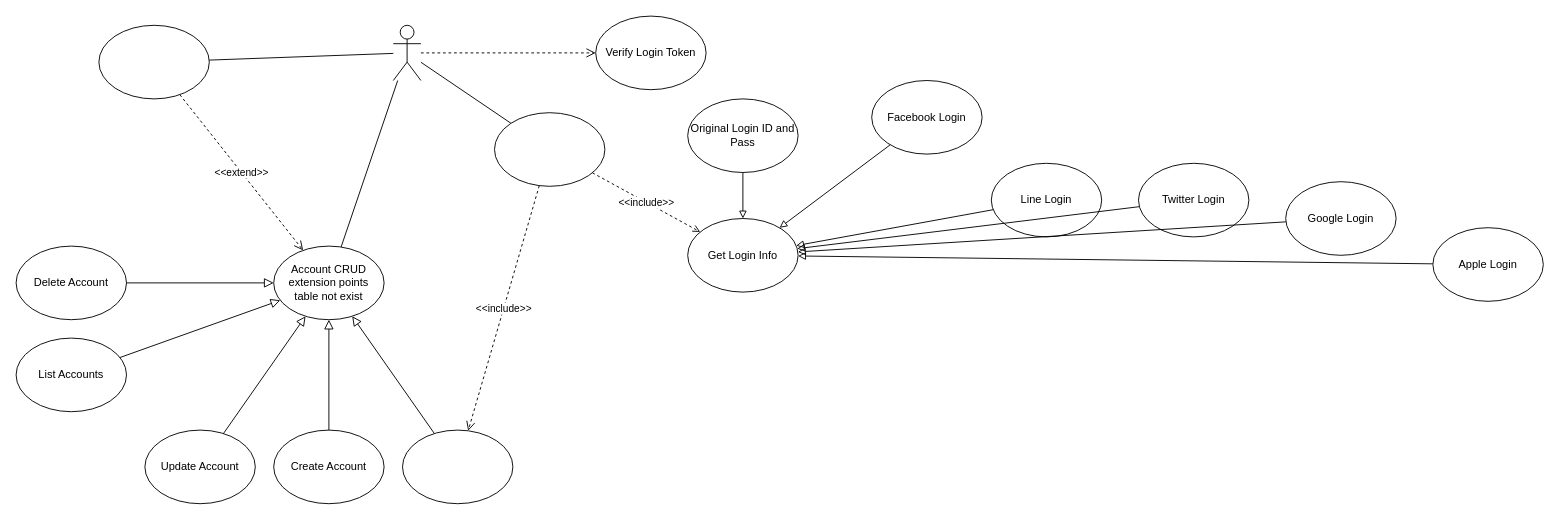
The diagram is 1559 pixels wide and 520 high, and some of its shapes have lost their labels. Here are the shapes that lost their labels. From the top down, the centre of each, then its label:
the point at 153,61: Create Accounts Table
the point at 406,52: System User
the point at 549,149: Get Login Token
the point at 457,466: Get Account
